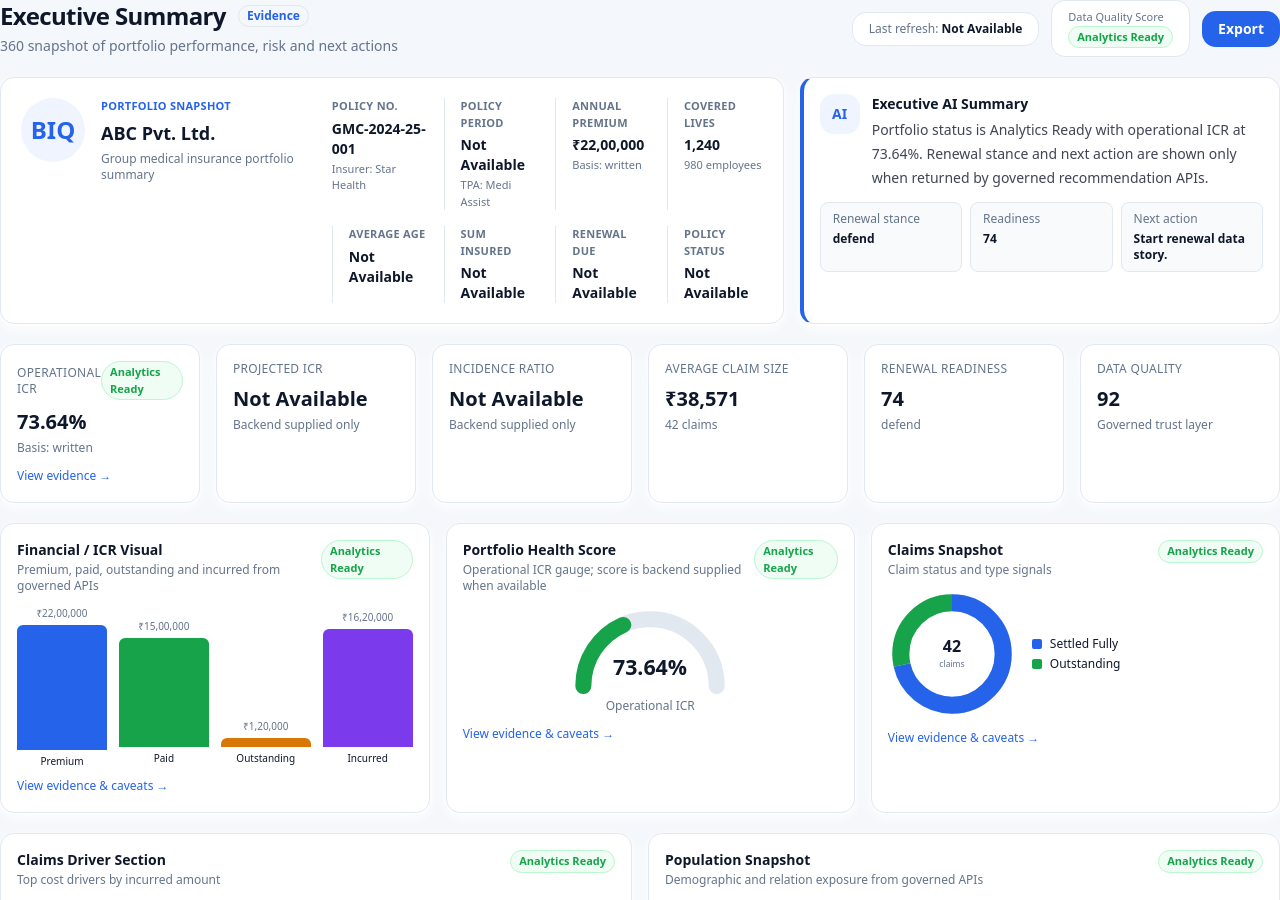
Test: Executive Summary - master screen pattern (API-driven) › opens the ICR evidence drawer on demand
This screenshot has width=1280, height=900.
expect the element with test id "exec-kpi-icr" is shown: met, box [17,361,183,486]
What coordinates should you click on to do the following:
click the button "View evidence →"
I would click on:
 (64, 476)
Its box is [17,468,111,484].
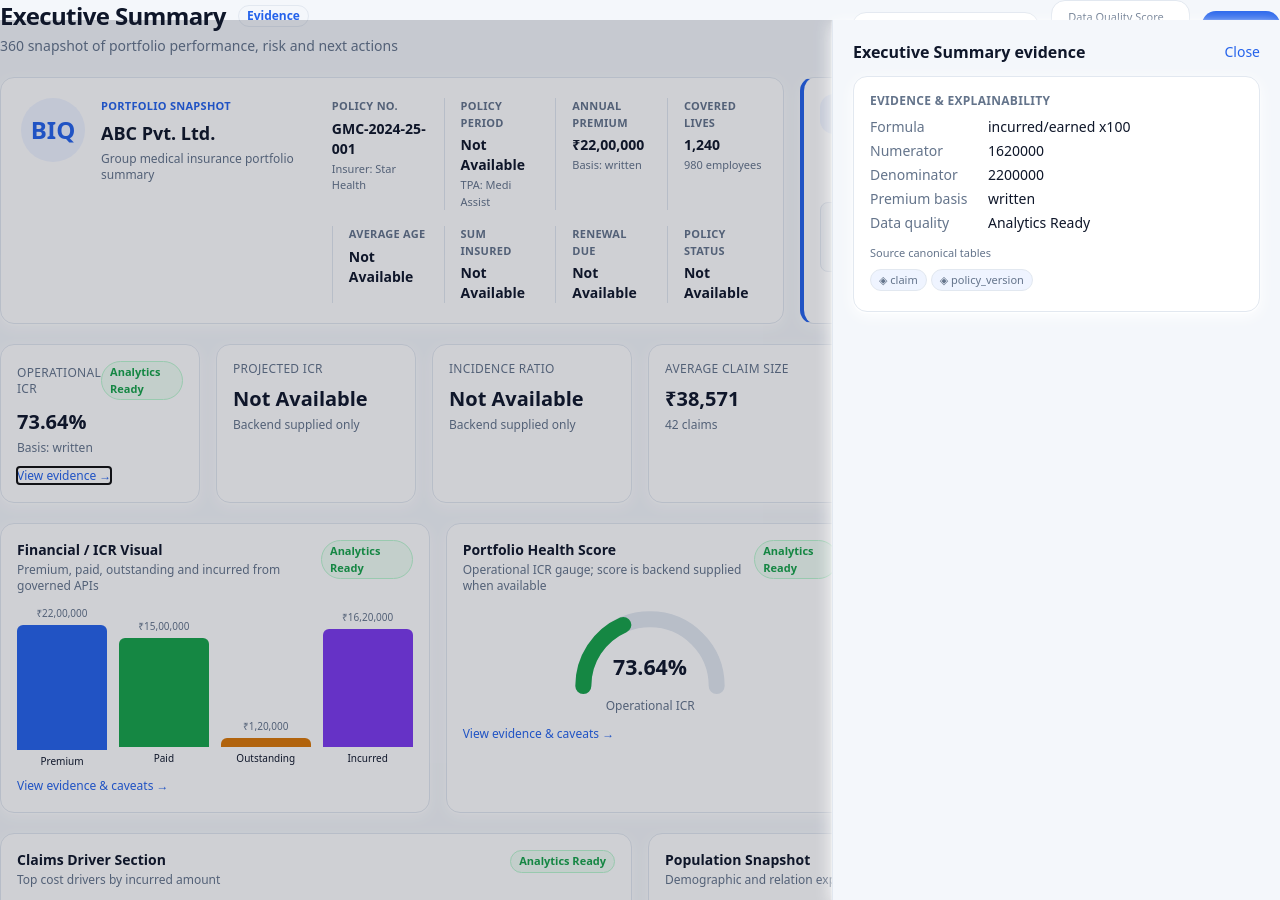
expect the element with test id "evidence-drawer" is shown: met
expect the element with test id "evidence-panel" shows "incurred/earned x100": met, box [988,117,1130,136]
